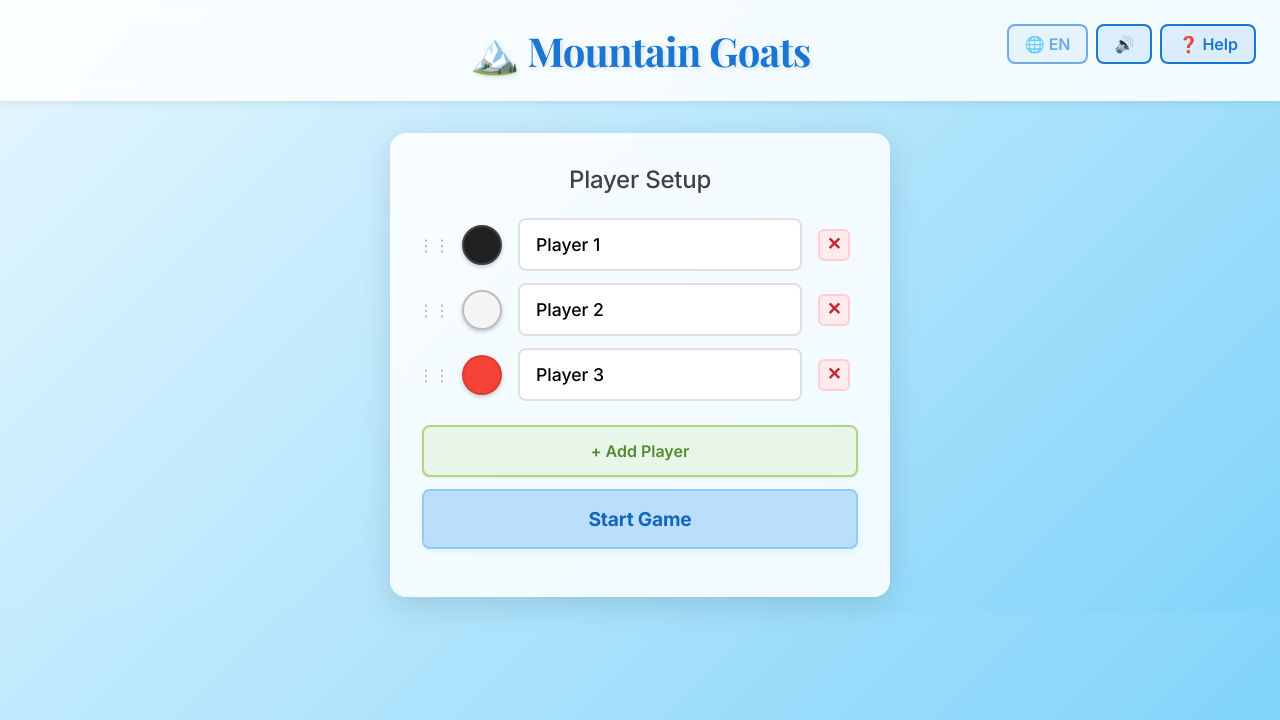
it: App › should open shortcuts modal with keyboard shortcut
# Start game first
Click the button "Start Game" at x=640, y=519, box [422, 489, 858, 549]
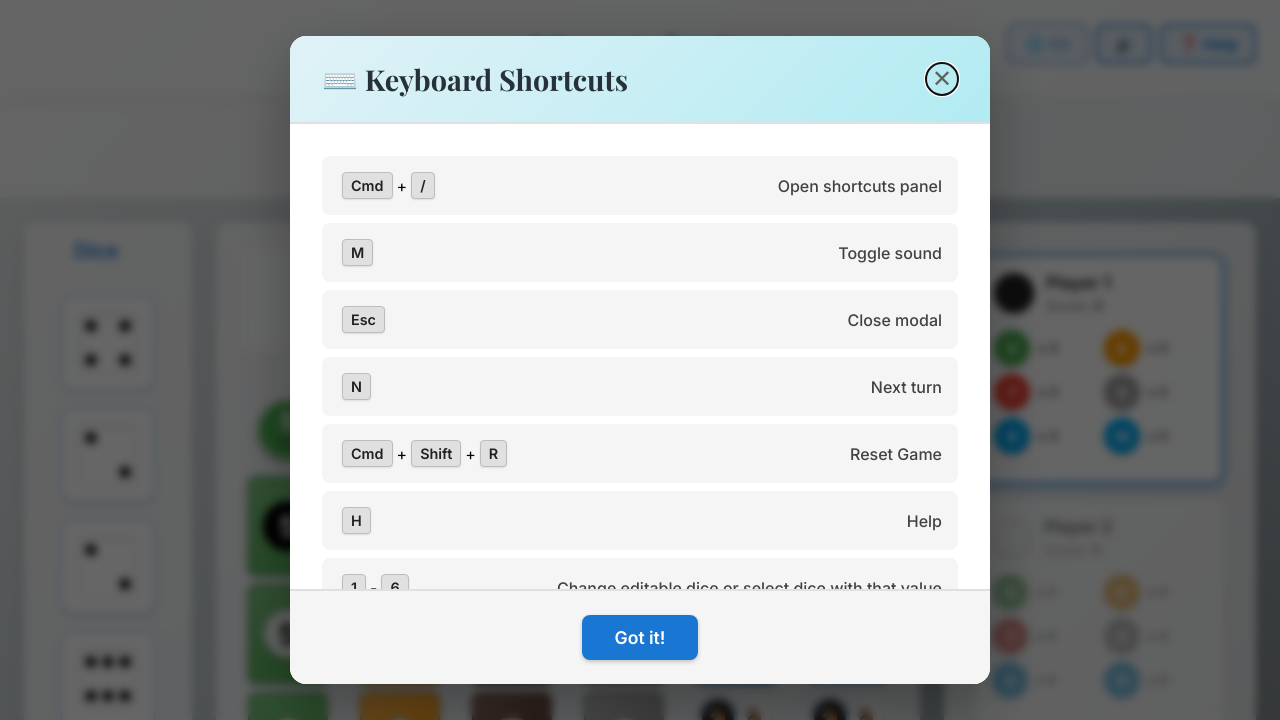
Expected: the heading "⌨️ Keyboard Shortcuts" is shown, [322, 60, 628, 98]
